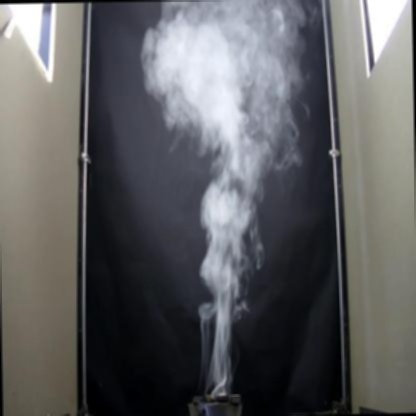smoke: (143, 0, 314, 380)
